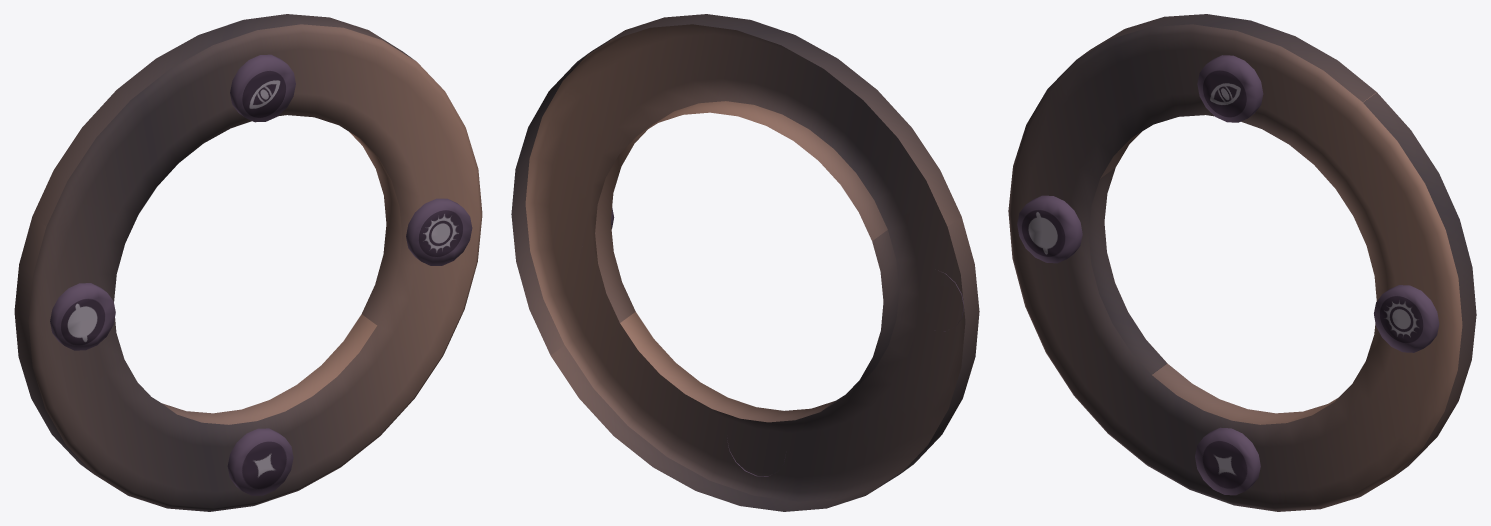
Rendered from Schijf2.fbx.
3 renders of one model, left to right at view 1: azimuth 30°, elevation 25°; view 2: azimuth 150°, elevation 25°; view 3: azimuth 330°, elevation 25°, orthographic.
Visible parts, largest first — view 1: Schijf1.001; view 2: Schijf1.001; view 3: Schijf1.001.
Boxes of the visible parts, box(x1,y1,x2,y2) form: Schijf1.001: box(14, 14, 482, 511); Schijf1.001: box(511, 14, 979, 511); Schijf1.001: box(1008, 14, 1476, 511).
Bounding box in the file's own units: 74.55 × 74.55 × 6.86.
